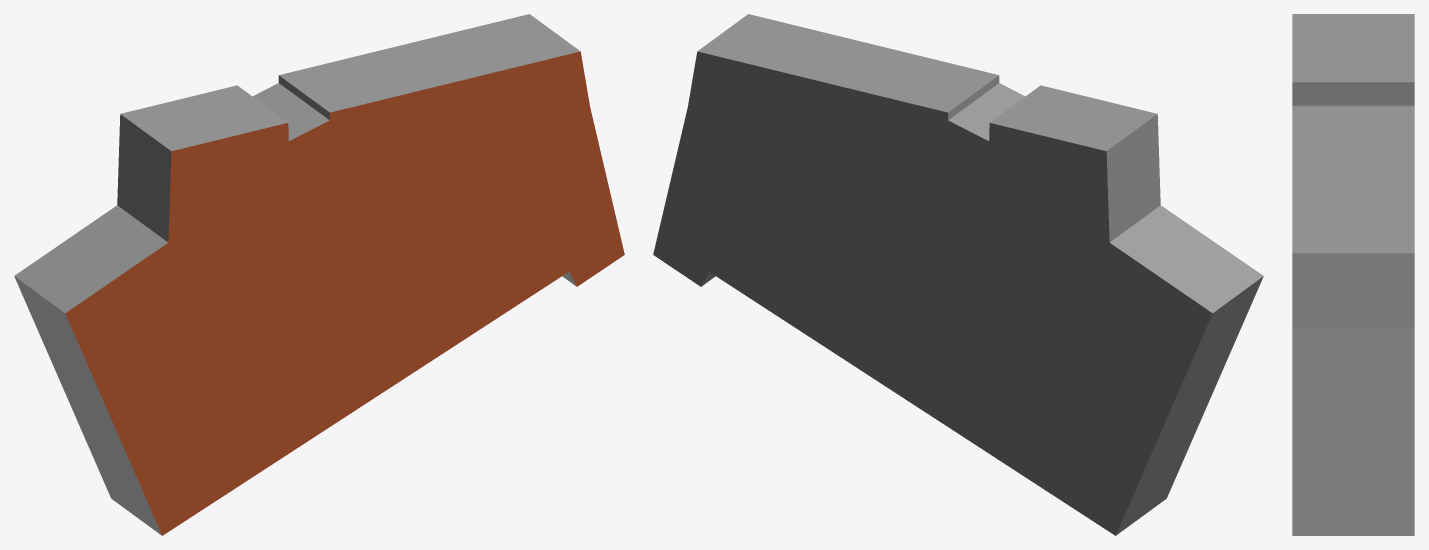
File: construction_6034_assumed_A_Casa_h6m.obj
3 renders of one model, left to right at view 1: azimuth 30°, elevation 25°; view 2: azimuth 150°, elevation 25°; view 3: azimuth 270°, elevation 25°, orthographic. The views are drawn at different scales.
Parts seen in each view (by area): view 1: construction_6034_assumed_A_Casa; view 2: construction_6034_assumed_A_Casa; view 3: construction_6034_assumed_A_Casa.
Boxes of the visible parts, x1,y1,x2,y2 form: construction_6034_assumed_A_Casa: (14,14,624,535); construction_6034_assumed_A_Casa: (653,14,1263,535); construction_6034_assumed_A_Casa: (1292,14,1414,535).
Bounding box in the file's own units: 37.92 × 24.76 × 6.
